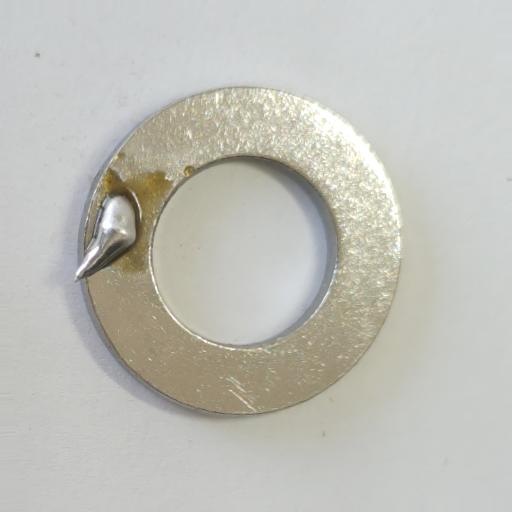excess_material: (73, 194, 138, 284)
